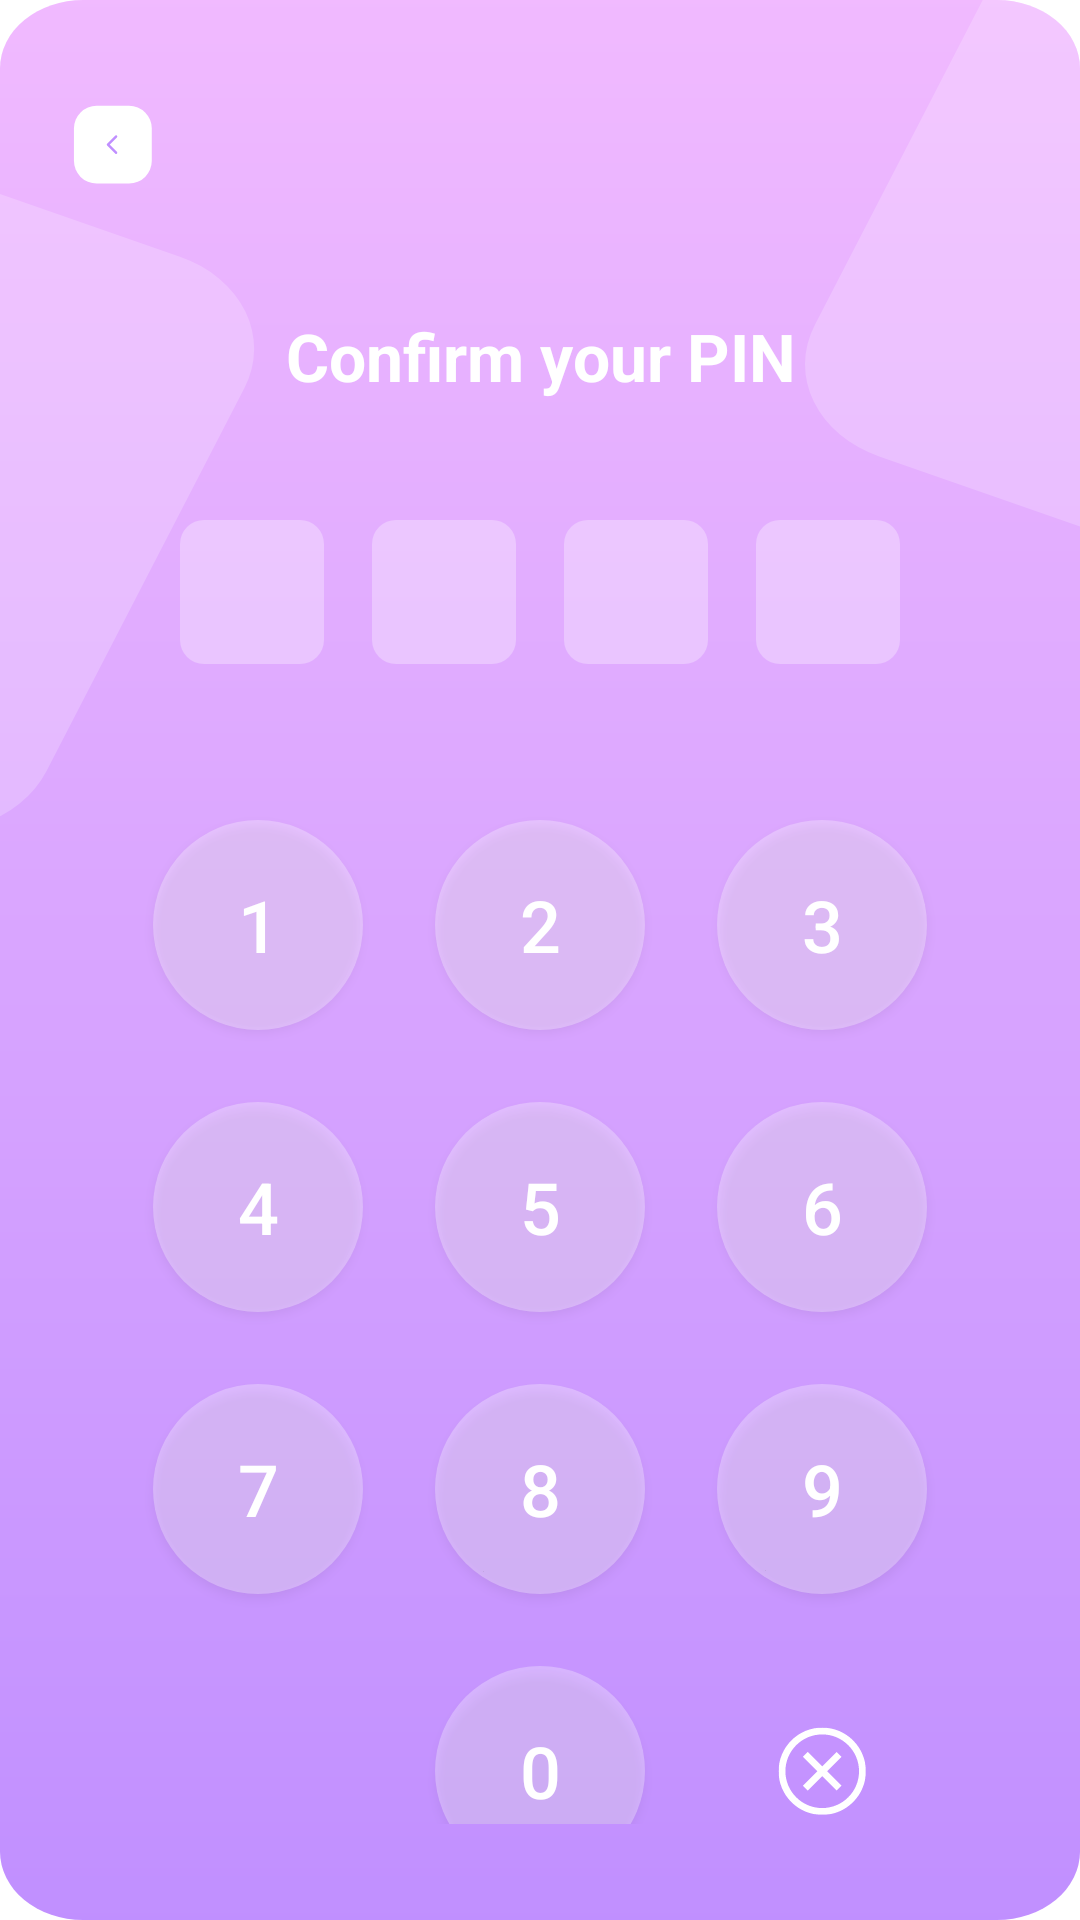

Screen size 1080*1920. Icon name, then its box in pixels as (x1, y1, x2, y2):
back arrow: (74, 106, 152, 184)
delete dail: (779, 1728, 866, 1815)
